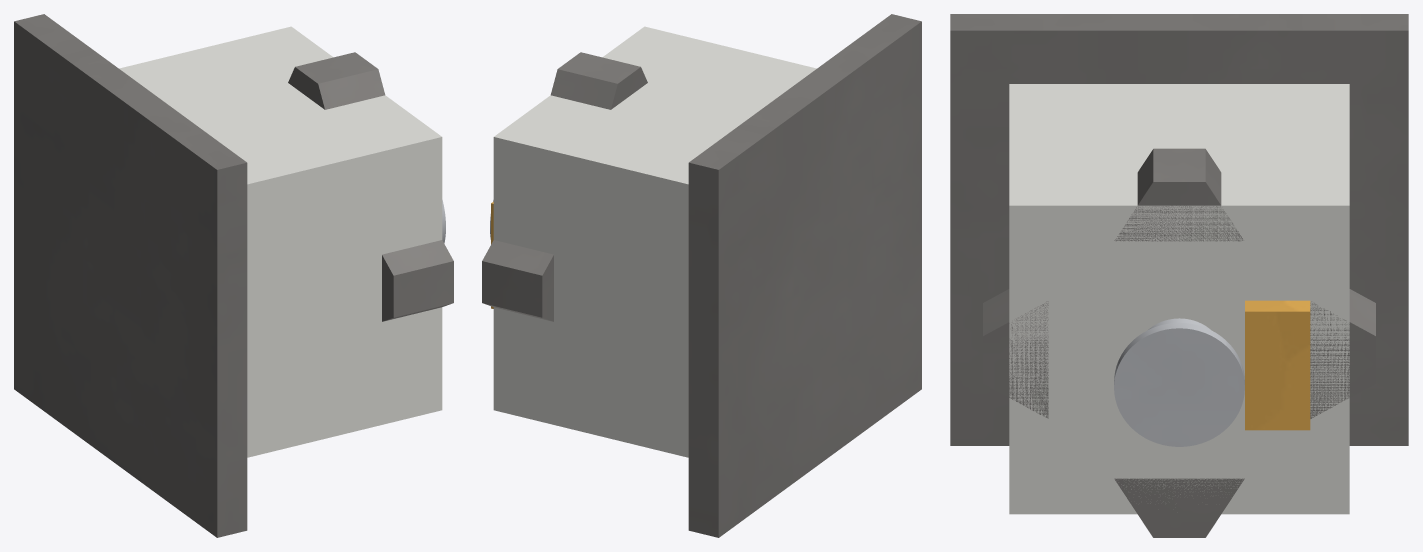
File: station15_grapple_fixture_pdgf.glb
The picture shows the model from 3 angles, left to right: view 1: azimuth 30°, elevation 25°; view 2: azimuth 150°, elevation 25°; view 3: azimuth 270°, elevation 25°; orthographic projection. The views are drawn at different scales.
Visible parts, largest first — view 1: base_plate, body, petals; view 2: base_plate, body, petals; view 3: body, base_plate, petals, grapple_shaft, connector.
Boxes of the visible parts, <box> form: base_plate: <box>14,14,247,537</box>; body: <box>119,26,442,457</box>; petals: <box>288,52,453,321</box>; base_plate: <box>688,14,921,537</box>; body: <box>493,26,816,457</box>; petals: <box>482,52,647,321</box>; body: <box>1009,84,1349,514</box>; base_plate: <box>950,14,1408,445</box>; petals: <box>983,148,1375,537</box>; grapple_shaft: <box>1114,318,1244,446</box>; connector: <box>1245,300,1310,430</box>.
Bounding box in the file's own units: 0.3 × 0.35 × 0.35.
Materials: 4 (3 with a texture image).
